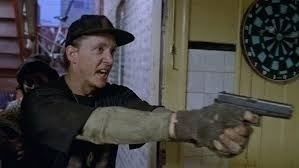pistol: (207, 88, 293, 133)
